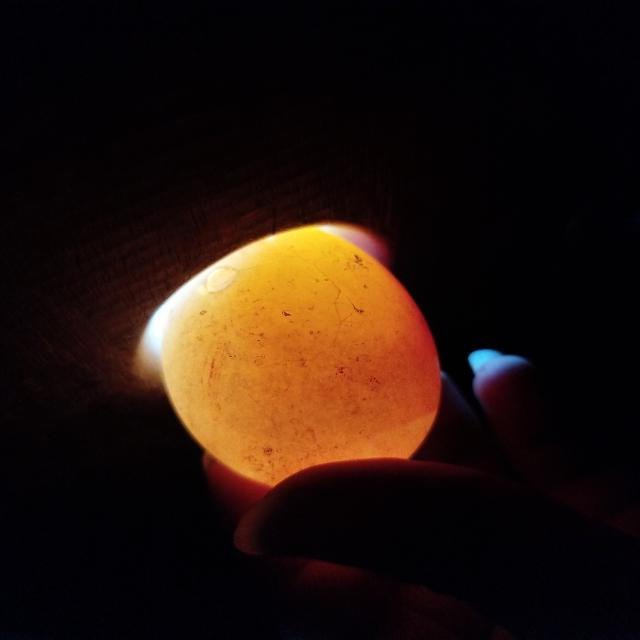Rachadura: (335, 290, 355, 326), (208, 268, 237, 291)
